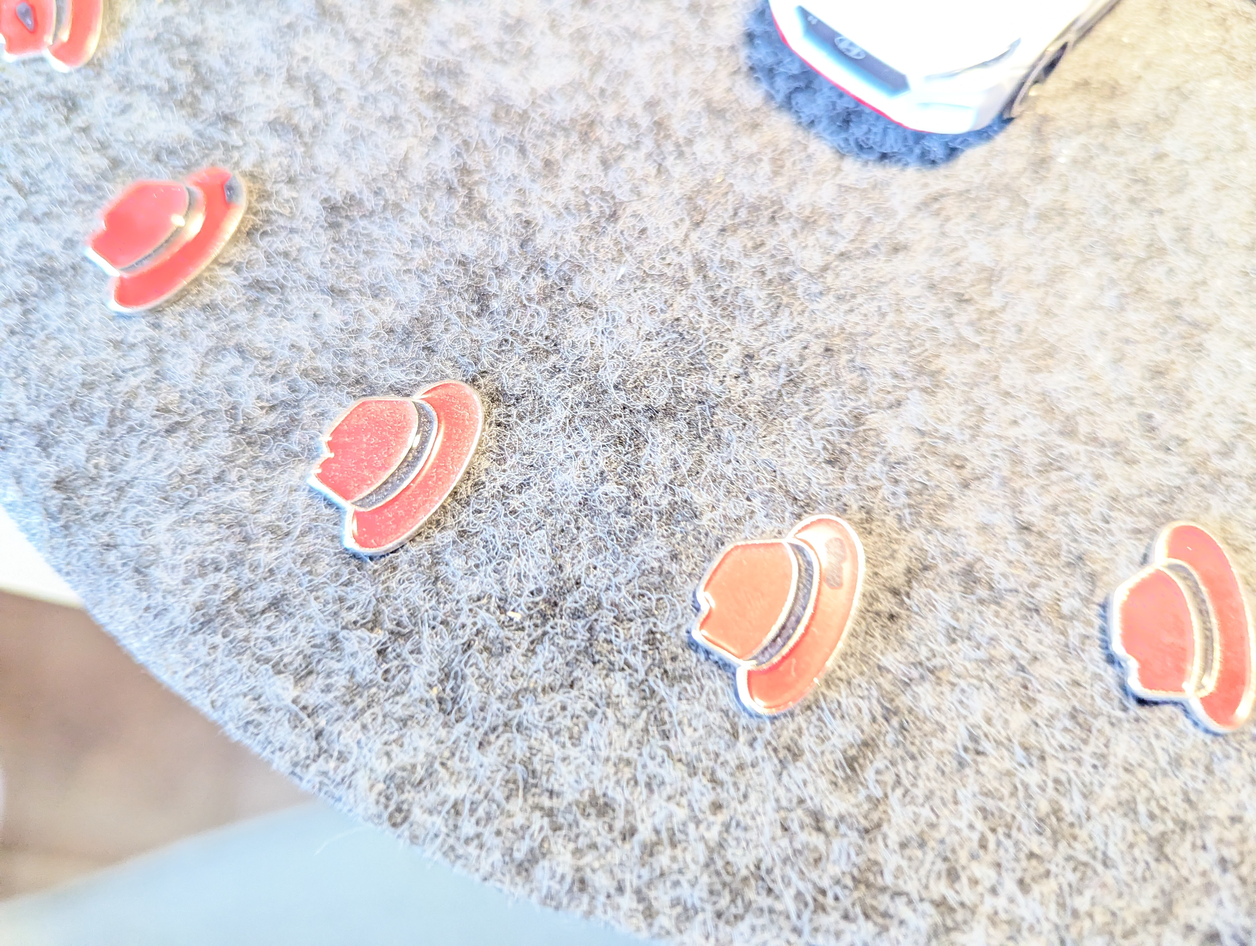Red-Hat: (681, 466, 876, 757), (301, 354, 511, 598), (1083, 494, 1256, 782), (62, 144, 262, 355), (0, 0, 129, 88)
Scratch: (819, 523, 862, 598), (214, 161, 260, 214), (4, 0, 41, 33)
